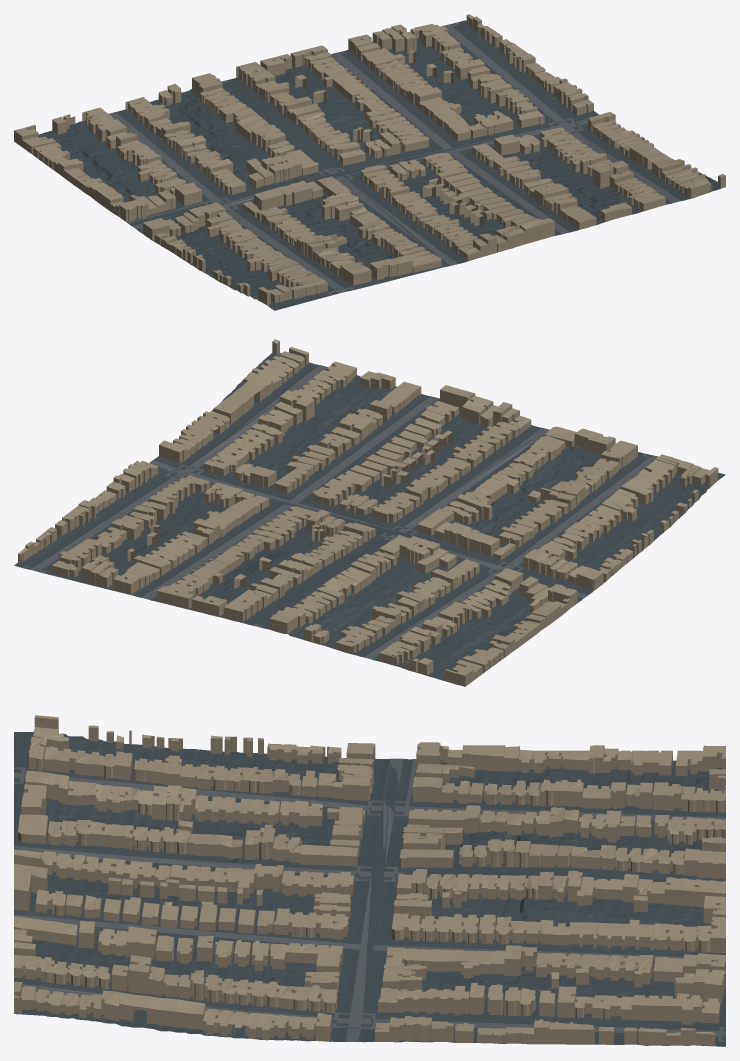
File: epsg26910-1415-10887.lod0.glb
3 views of the same model, one above another, from view 1: azimuth 30°, elevation 25°; view 2: azimuth 150°, elevation 25°; view 3: azimuth 270°, elevation 25° (orthographic). The views are drawn at different scales.
Parts seen in each view (by area): view 1: epsg26910-1415-10887-lod0; view 2: epsg26910-1415-10887-lod0; view 3: epsg26910-1415-10887-lod0.
Part boxes in pixels (x1,y1,x2,y2): epsg26910-1415-10887-lod0: (14,14,725,310); epsg26910-1415-10887-lod0: (14,339,725,686); epsg26910-1415-10887-lod0: (14,715,725,1046).
Size of the model in its own units: 384 by 38.43 by 384.
